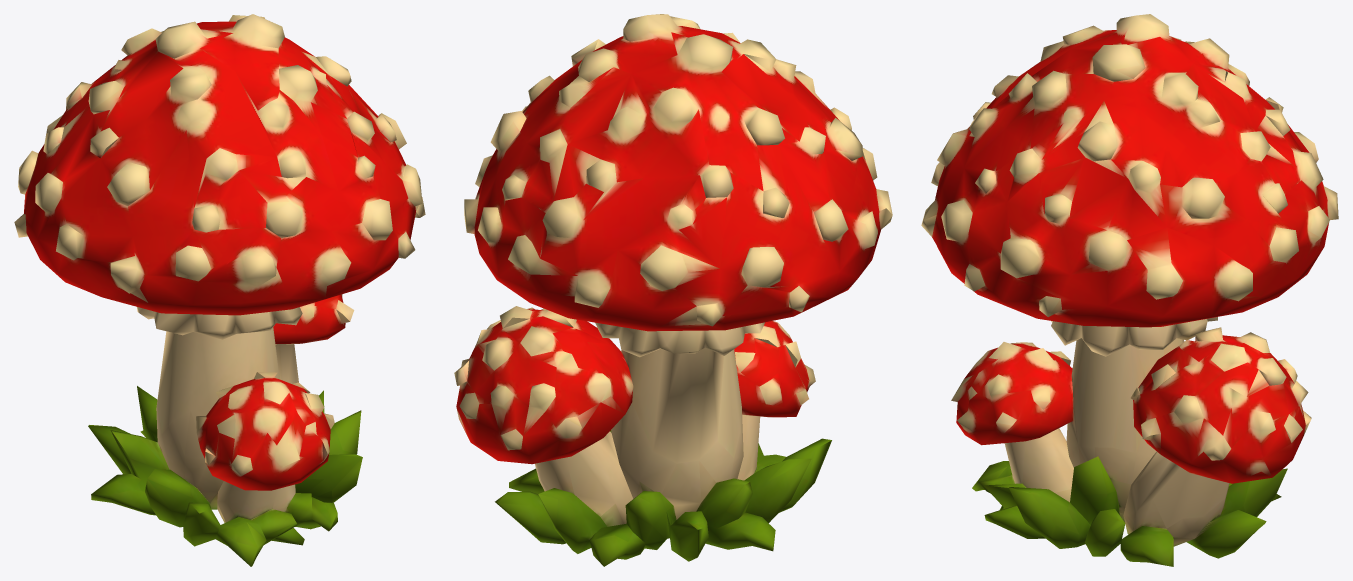
Rendered from mushrooms.glb.
3 renders of one model, left to right at view 1: azimuth 30°, elevation 25°; view 2: azimuth 150°, elevation 25°; view 3: azimuth 270°, elevation 25°, orthographic. The views are drawn at different scales.
Visible parts, largest first — view 1: tripo_node_3701028c-1098-428f-af10-d942e6747029; view 2: tripo_node_3701028c-1098-428f-af10-d942e6747029; view 3: tripo_node_3701028c-1098-428f-af10-d942e6747029.
Part boxes in pixels (x1,y1,x2,y2): tripo_node_3701028c-1098-428f-af10-d942e6747029: (14, 14, 425, 566); tripo_node_3701028c-1098-428f-af10-d942e6747029: (454, 14, 892, 566); tripo_node_3701028c-1098-428f-af10-d942e6747029: (921, 14, 1338, 566).
Size of the model in its own units: 0.4635 by 0.6023 by 0.4687.
Materials: 1 (1 with a texture image).
